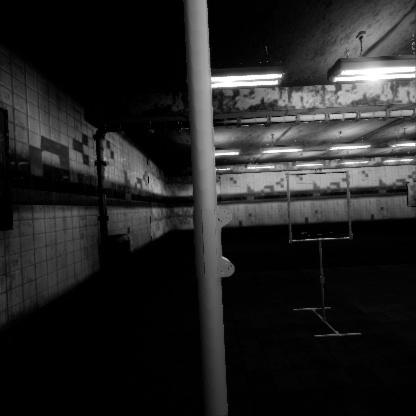gate: (286, 172, 357, 246)
